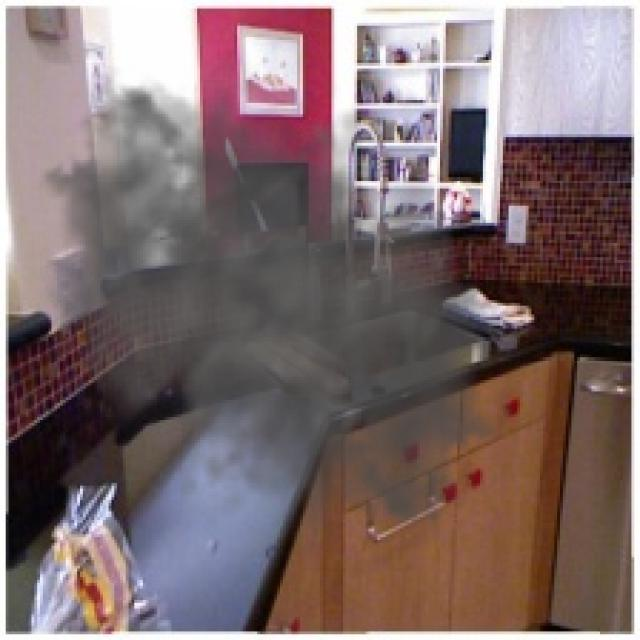smoke: (9, 46, 532, 563)
